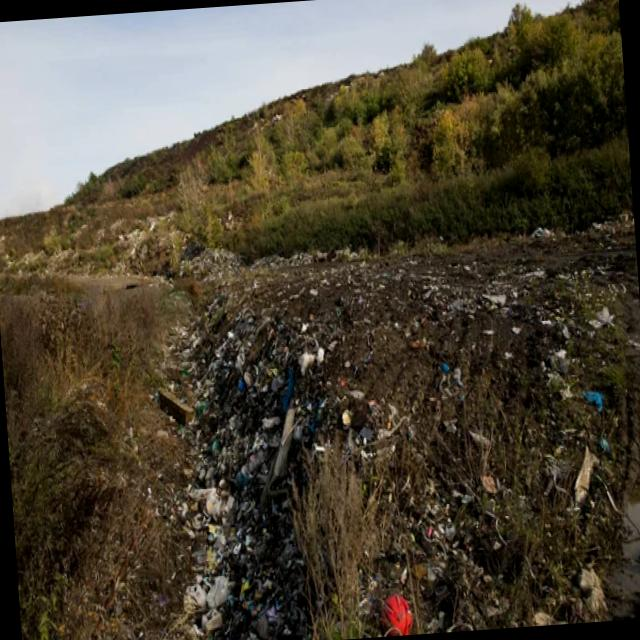garbage: (160, 232, 597, 630)
